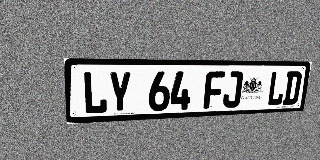4: (170, 71, 192, 110)
6: (148, 71, 171, 111)
D: (282, 71, 303, 105)
F: (203, 71, 225, 109)
J: (222, 71, 243, 108)
L: (82, 71, 107, 114), (266, 71, 287, 106)
Y: (108, 71, 132, 113)
